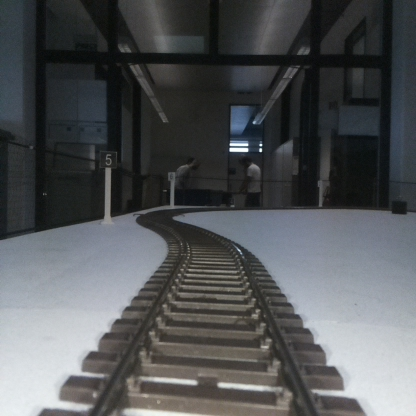black-info-3: (101, 151, 116, 221)
